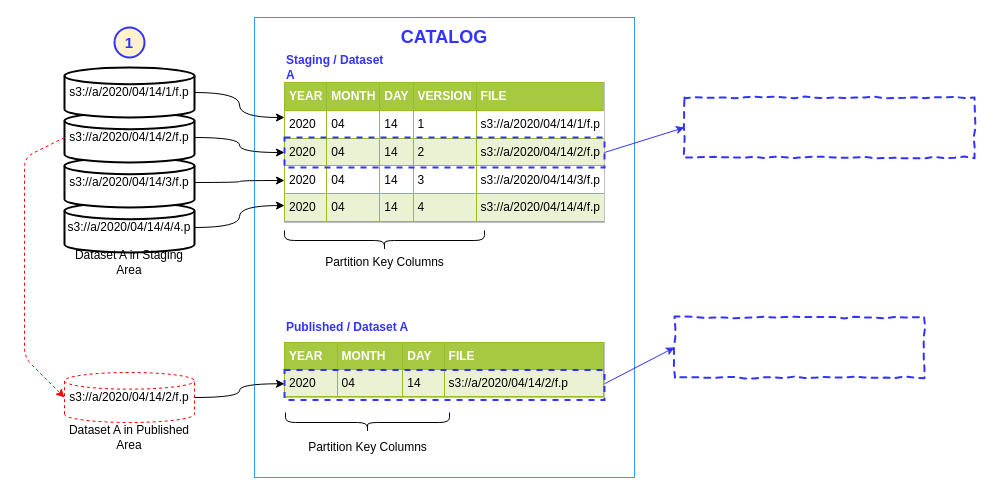
The diagram is 993 pixels wide and 495 high, and some of its shapes have lost their labels. Here are the shapes that lost their labels. From the top down, the centre of each, then its label:
At point (829, 127): "select * from Staging.A where year=2020 and month=04 and day=14 and version=2".
At point (799, 347): "select * from Published.A where year=2020 and month=04 and day=14".
